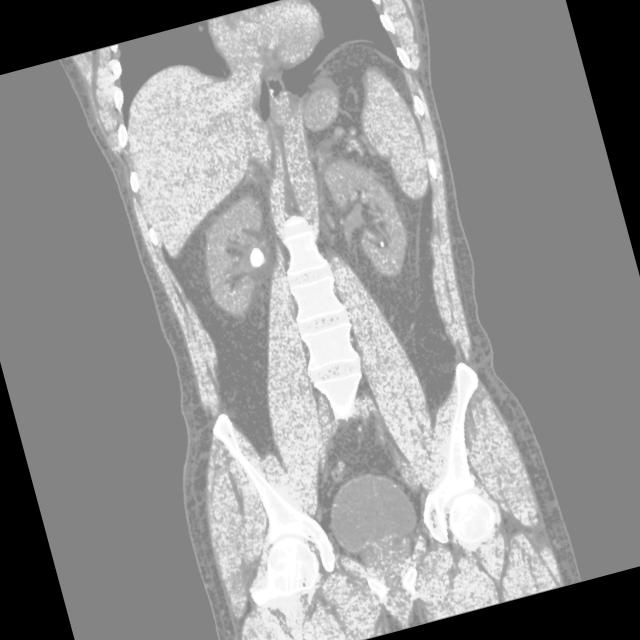STONE: (164, 138, 444, 342)
